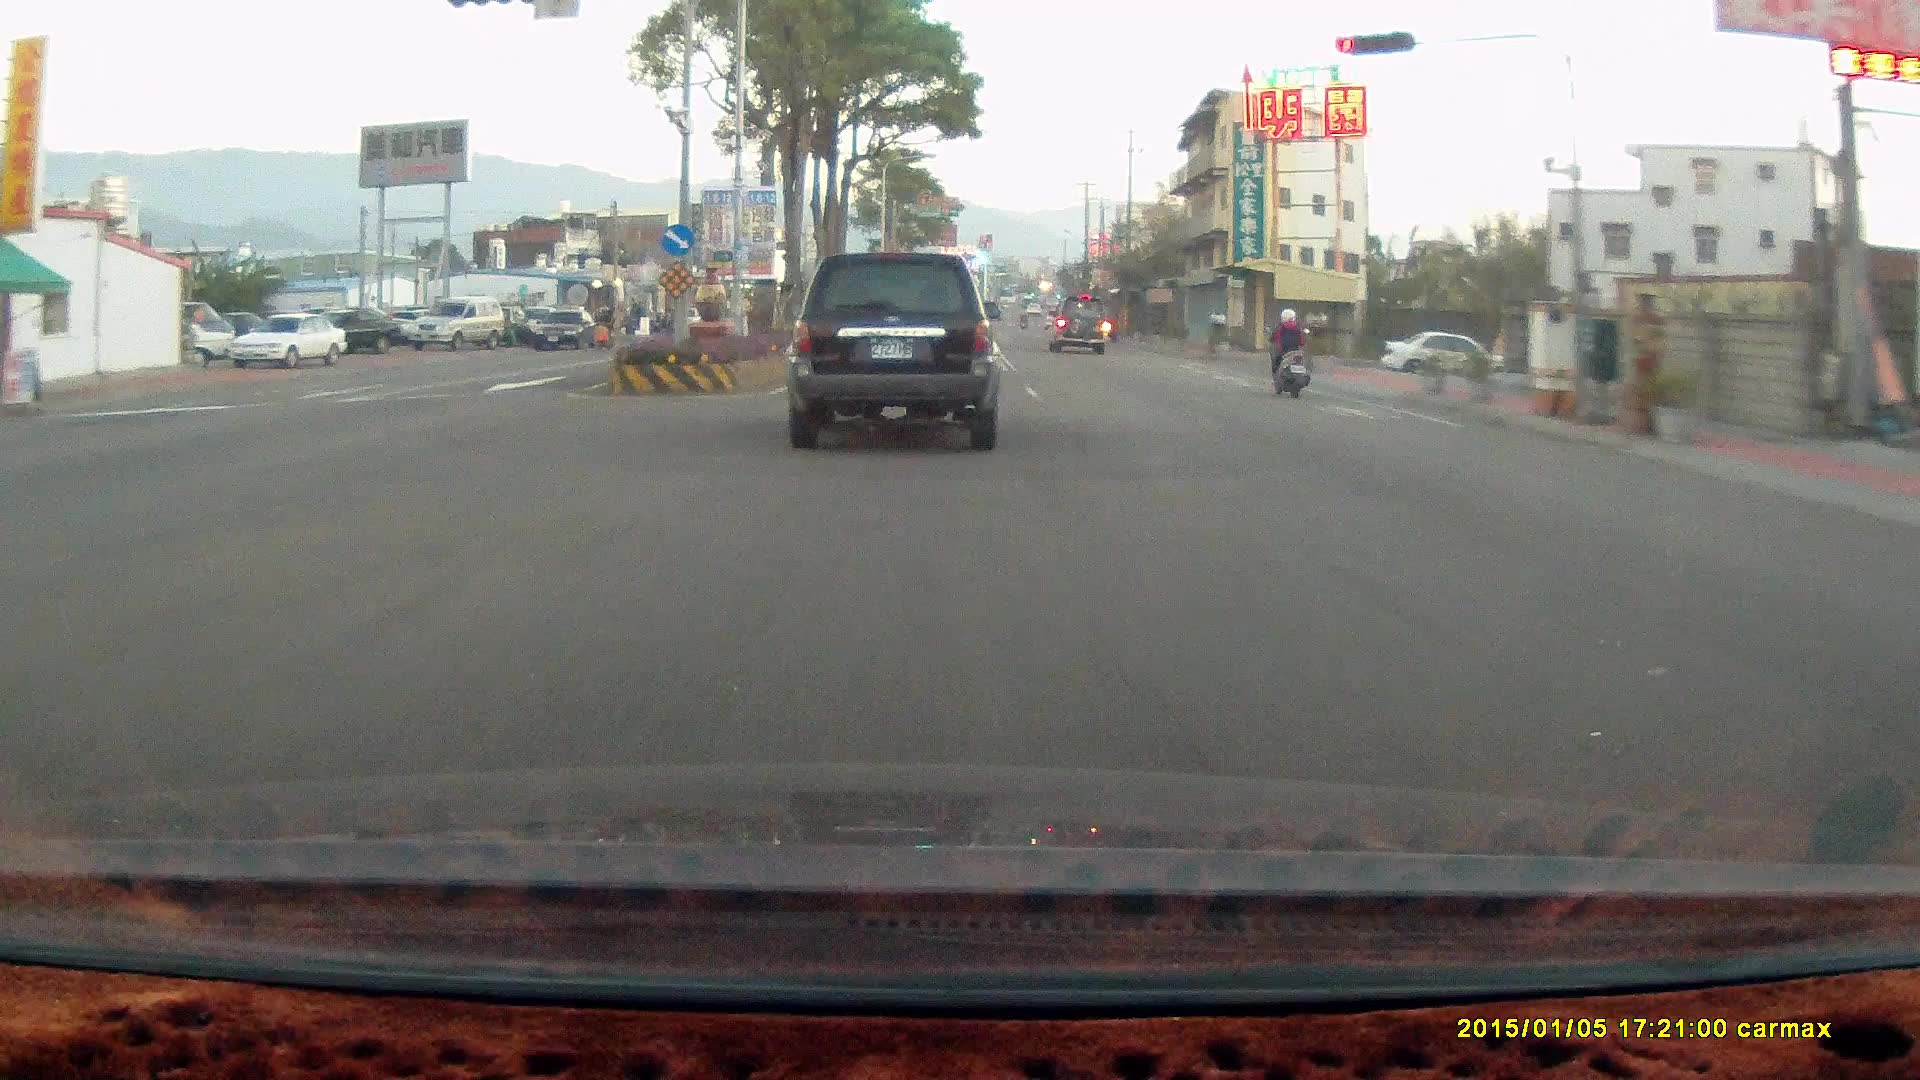rider: (1257, 298, 1323, 406), (1259, 301, 1306, 395), (588, 302, 612, 352)
vehicle: (781, 251, 1000, 448), (794, 256, 1008, 453), (1379, 329, 1505, 385), (230, 307, 347, 367), (235, 309, 350, 369), (1386, 331, 1508, 384), (407, 296, 506, 352), (309, 305, 406, 349), (1045, 292, 1108, 351), (1052, 294, 1109, 357), (533, 309, 601, 352), (531, 306, 598, 347)
